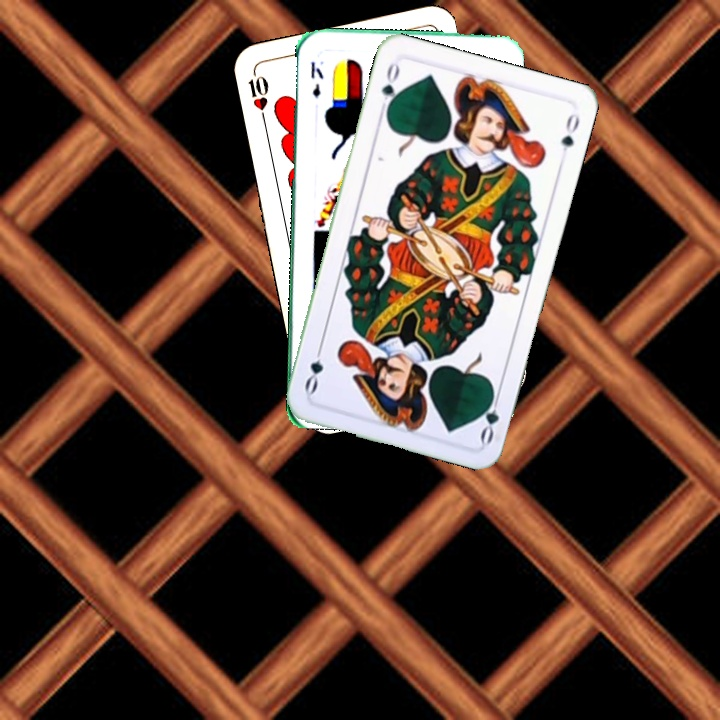EK: (306, 58, 326, 101)
GO: (475, 386, 503, 446), (376, 59, 403, 117)
H10: (244, 66, 271, 125)
